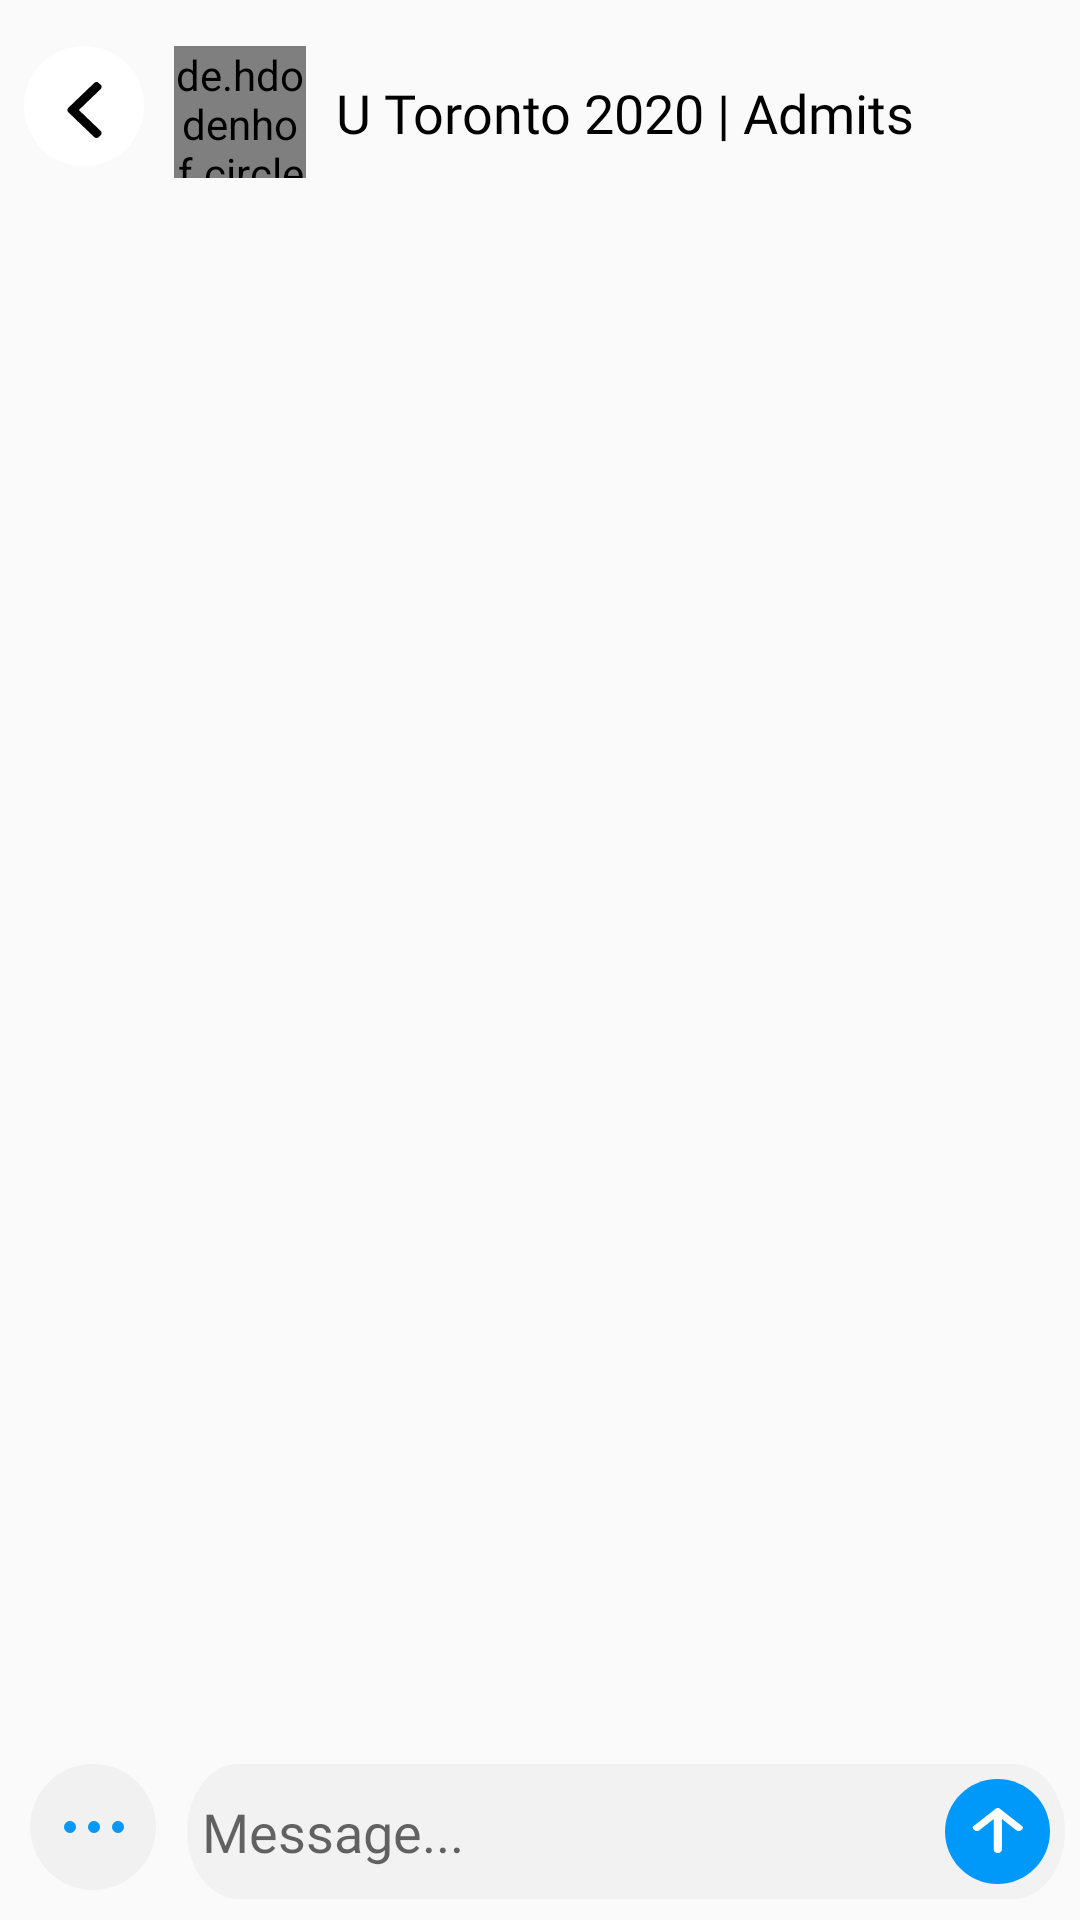

Named icons in this screenshot (1080 × 1920) and their bounding boxes, (x1, y1, x2, y2):
back: (67, 82, 102, 138)
